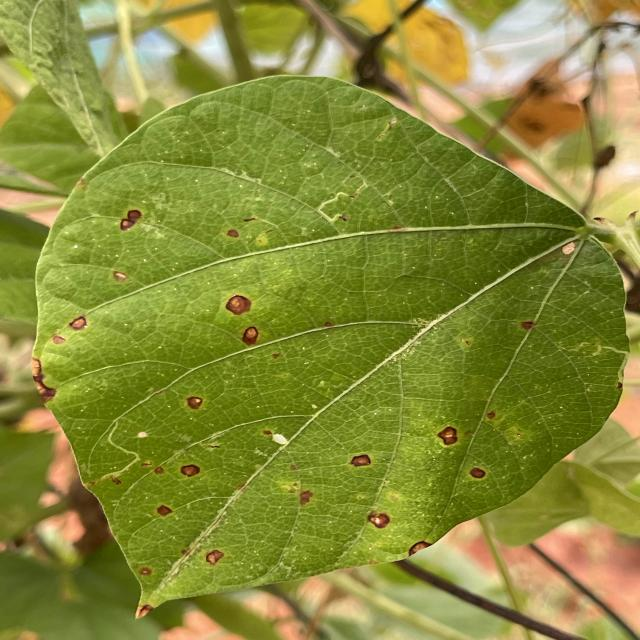Dolicos bean_cercospora leaf spot: (32, 75, 626, 604)
